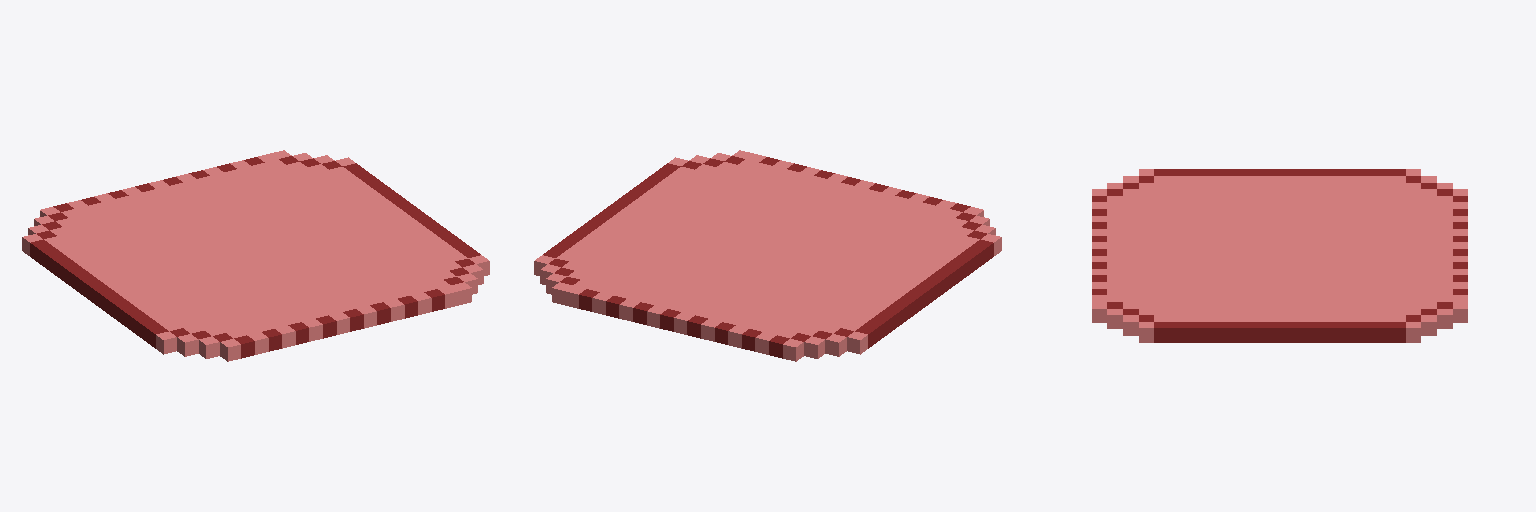
The picture shows the model from 3 angles: view 1: azimuth 30°, elevation 25°; view 2: azimuth 150°, elevation 25°; view 3: azimuth 270°, elevation 25°; orthographic projection.
Visible parts, largest first — view 1: carped3; view 2: carped3; view 3: carped3.
Boxes of the visible parts, box(x1,y1,x2,y2) form: carped3: box(22, 150, 489, 361); carped3: box(534, 150, 1001, 361); carped3: box(1092, 169, 1467, 342).
Bounding box in the file's own units: 24 × 1 × 24.
1 materials, 1 textured.